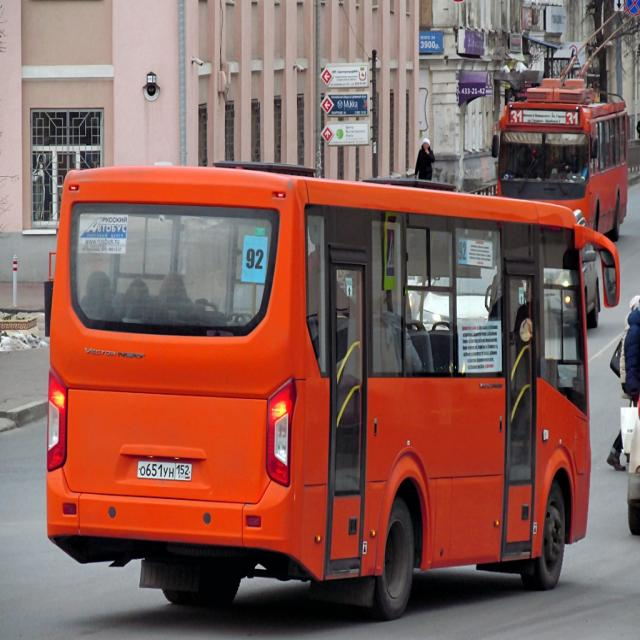number-of-bus: (245, 245, 266, 274)
